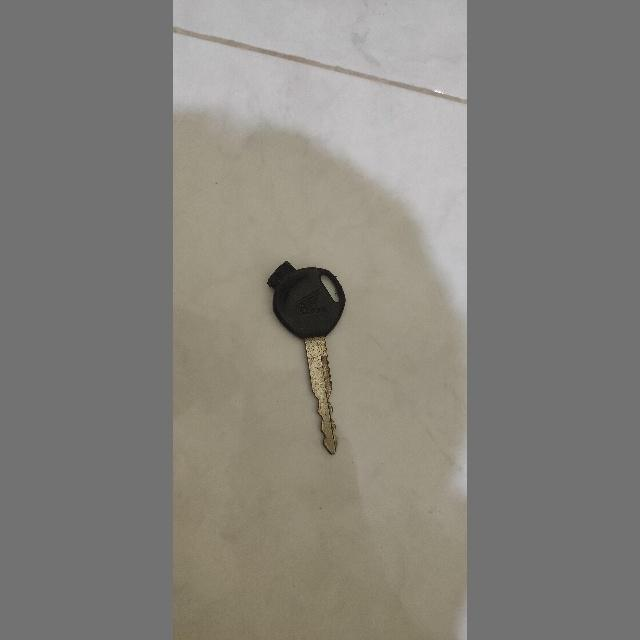Keys: (260, 248, 360, 464)
